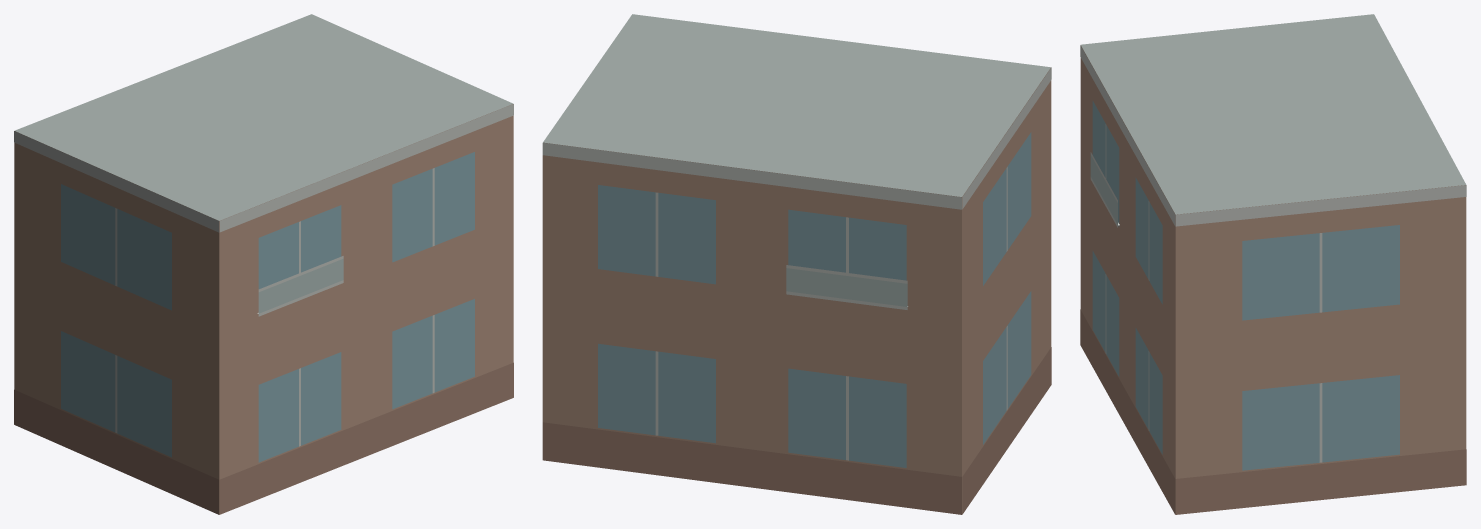
Rendered from survey-upis-32822030.glb.
The picture shows the model from 3 angles, left to right: view 1: azimuth 30°, elevation 25°; view 2: azimuth 150°, elevation 25°; view 3: azimuth 270°, elevation 25°; orthographic projection. The views are drawn at different scales.
Visible parts, largest first — view 1: survey-upis-32822030.tmp; view 2: survey-upis-32822030.tmp; view 3: survey-upis-32822030.tmp.
Boxes of the visible parts, box(x1,y1,x2,y2) form: survey-upis-32822030.tmp: box(14, 14, 513, 514); survey-upis-32822030.tmp: box(542, 14, 1051, 514); survey-upis-32822030.tmp: box(1080, 14, 1466, 514).
Size of the model in its own units: 8.75 by 6.1 by 7.12.
